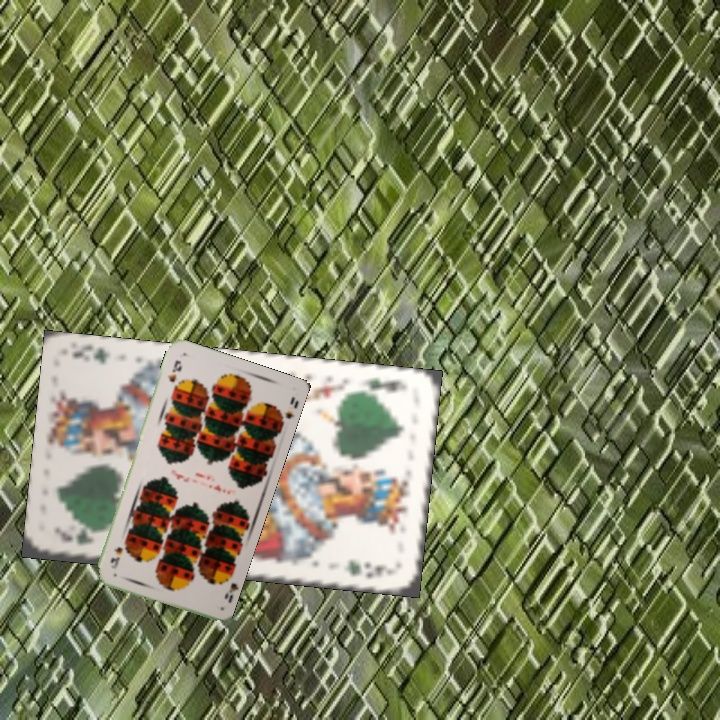GK: (357, 373, 410, 396), (57, 527, 96, 548)
S9: (164, 356, 184, 385), (218, 570, 236, 601)
